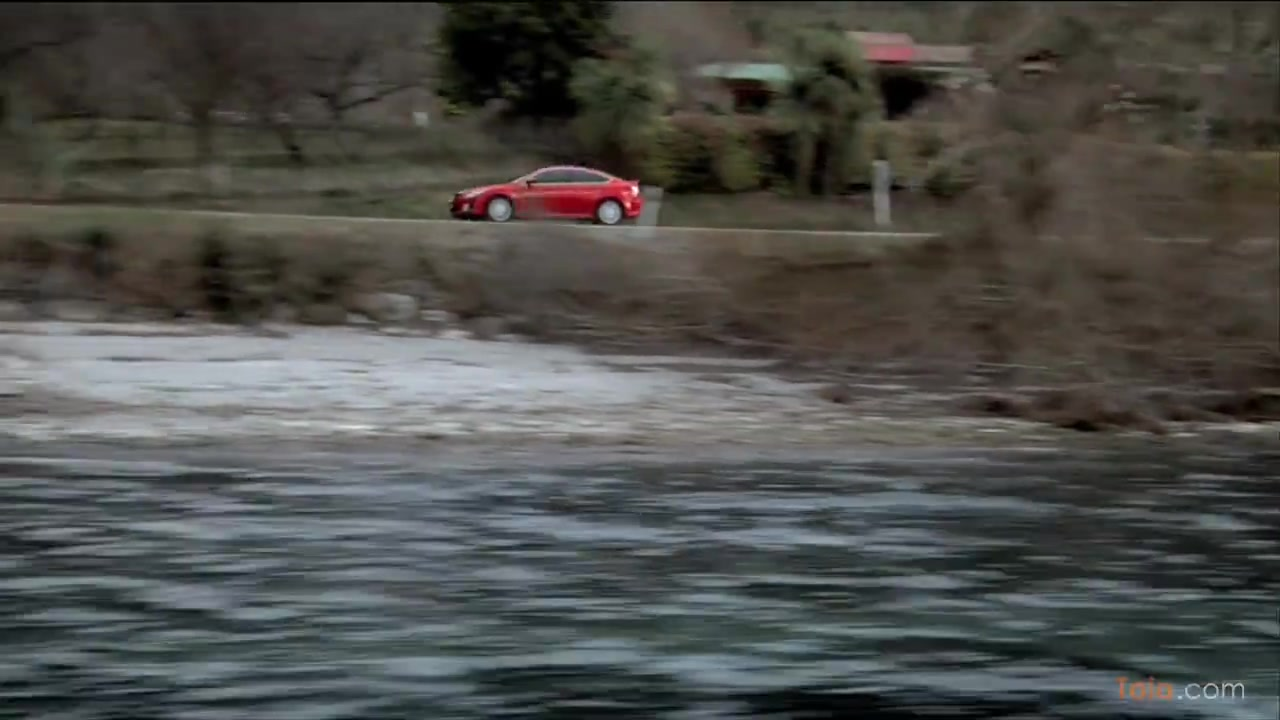car: (447, 163, 647, 226)
